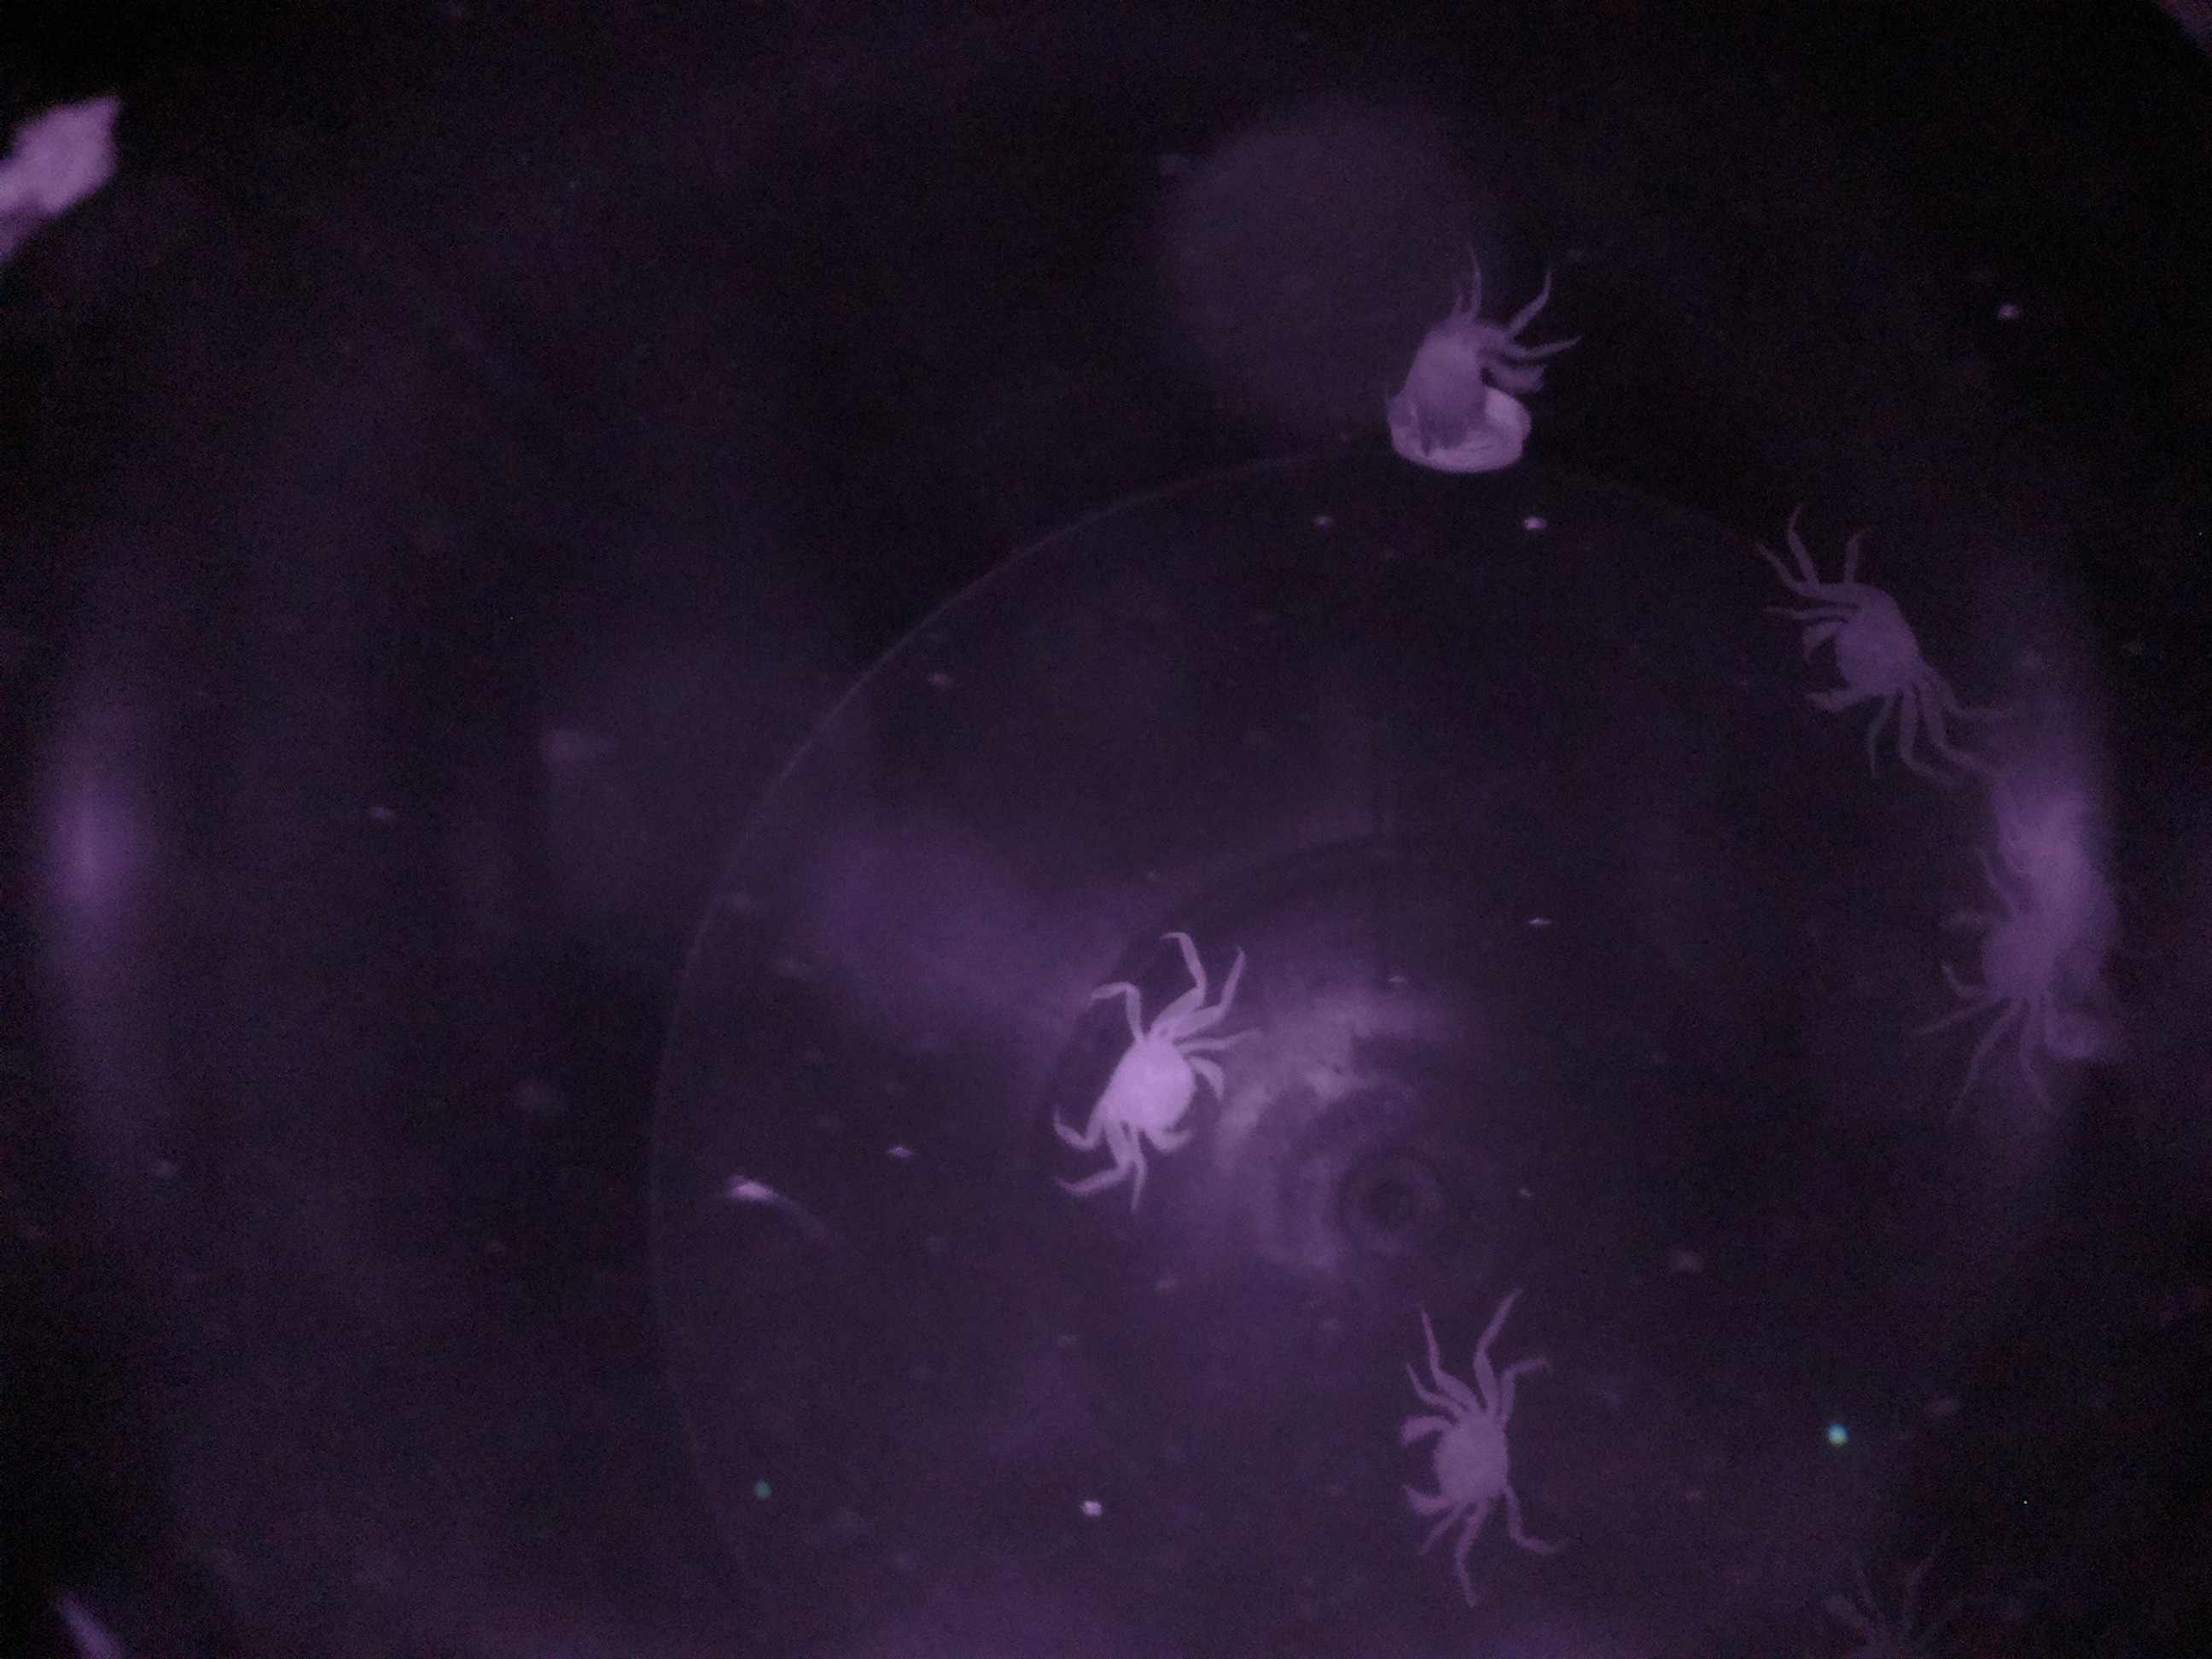Crab: (1052, 951, 1237, 1192), (1778, 532, 1963, 753), (1379, 1316, 1543, 1558), (1919, 856, 2132, 1033)
